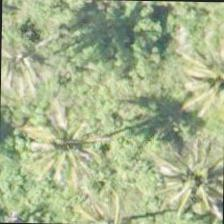Kelapa_Sawit: (24, 96, 116, 188), (148, 135, 224, 223), (0, 18, 64, 109), (174, 33, 223, 126)
